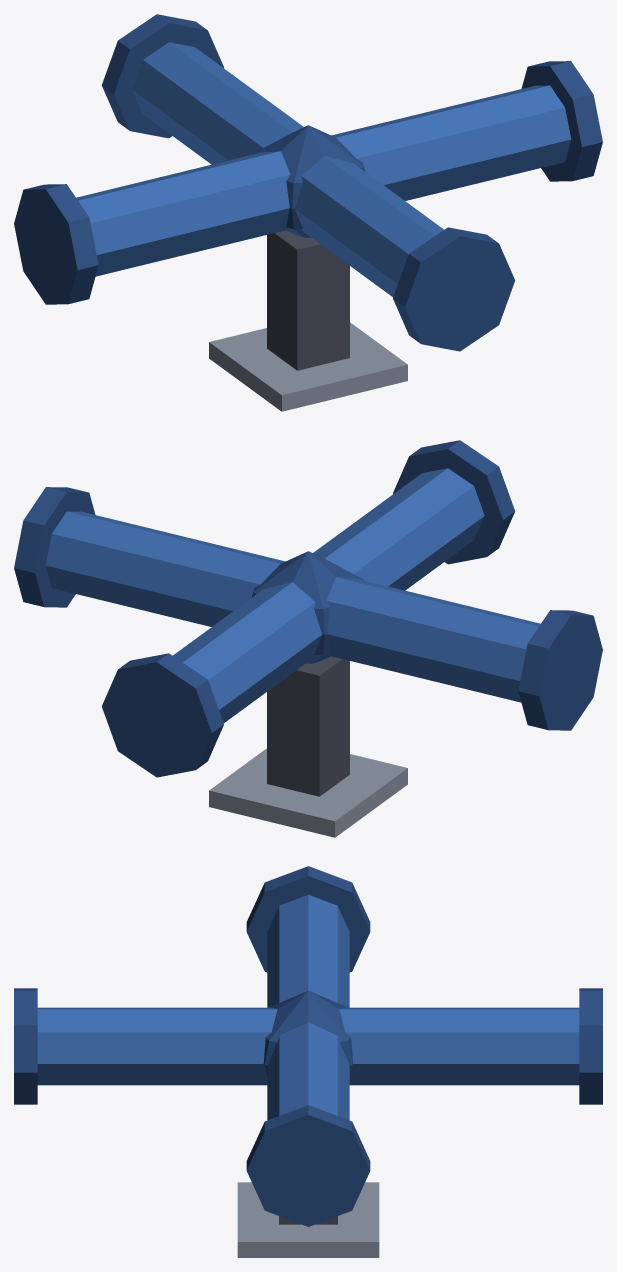
File: water-pipe-cross.glb
The picture shows the model from 3 angles, top to bottom: view 1: azimuth 30°, elevation 25°; view 2: azimuth 150°, elevation 25°; view 3: azimuth 270°, elevation 25°; orthographic projection. The views are drawn at different scales.
Parts seen in each view (by area): view 1: water-pipe-cross; view 2: water-pipe-cross; view 3: water-pipe-cross.
Part boxes in pixels (left/top/right/bottom): water-pipe-cross: left=14, top=14, right=602, bottom=411; water-pipe-cross: left=14, top=440, right=602, bottom=837; water-pipe-cross: left=14, top=866, right=602, bottom=1257.
Bounding box in the file's own units: 1 × 0.445 × 1.
Materials: 1 (1 with a texture image).
